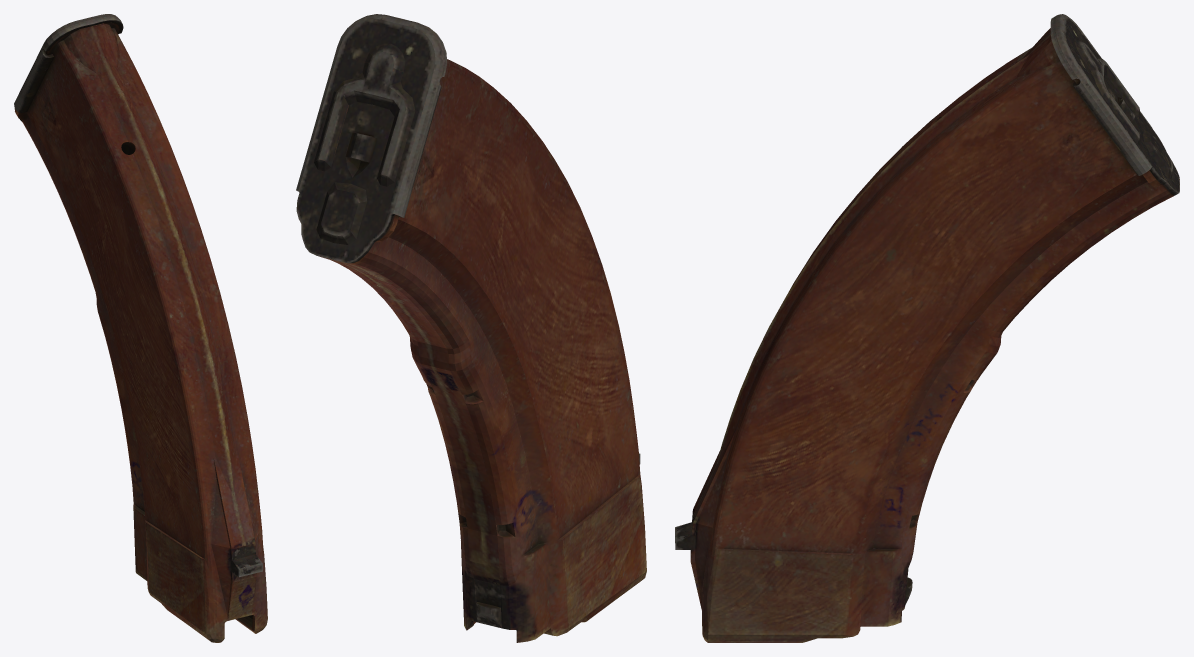
The picture shows the model from 3 angles, left to right: view 1: azimuth 30°, elevation 25°; view 2: azimuth 150°, elevation 25°; view 3: azimuth 270°, elevation 25°; orthographic projection. The views are drawn at different scales.
Parts seen in each view (by area): view 1: TW_5a01c29586f77474660c694c_PZ_Import; view 2: TW_5a01c29586f77474660c694c_PZ_Import; view 3: TW_5a01c29586f77474660c694c_PZ_Import.
Part boxes in pixels (x1,y1,x2,y2): TW_5a01c29586f77474660c694c_PZ_Import: (14,14,267,642); TW_5a01c29586f77474660c694c_PZ_Import: (296,14,646,642); TW_5a01c29586f77474660c694c_PZ_Import: (675,14,1179,642).
Bounding box in the file's own units: 0.0182 × 0.0885 × 0.1174.
1 material, 1 textured.
